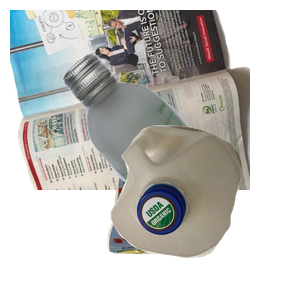glass: (60, 51, 300, 231)
paper: (10, 10, 250, 190)
plastic: (108, 123, 300, 300)
trash: (105, 152, 280, 300)
